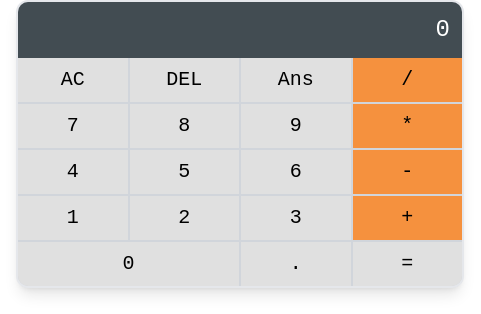
it: Calculator › should append decimal point to the input
Click the button "1" at [73, 218], box x1=18 y1=196 x2=128 y2=240
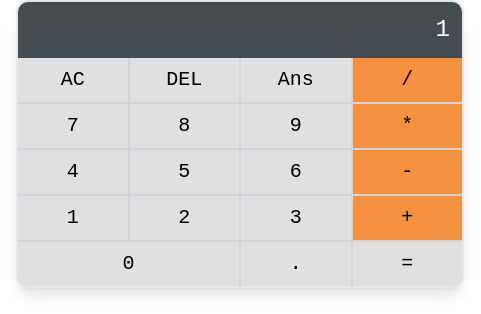
Click the button "." at [296, 264], box x1=241 y1=242 x2=350 y2=286
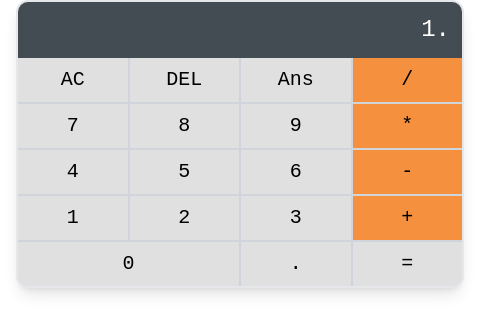
Now the text with test id "input" reads "1.", box x1=421 y1=16 x2=450 y2=43
